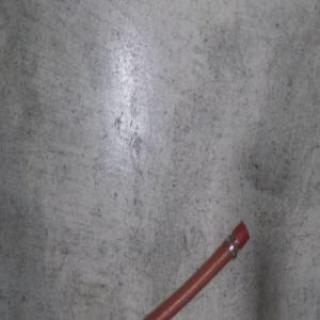Hosetrack_idkeyframe: (130, 218, 250, 319)
